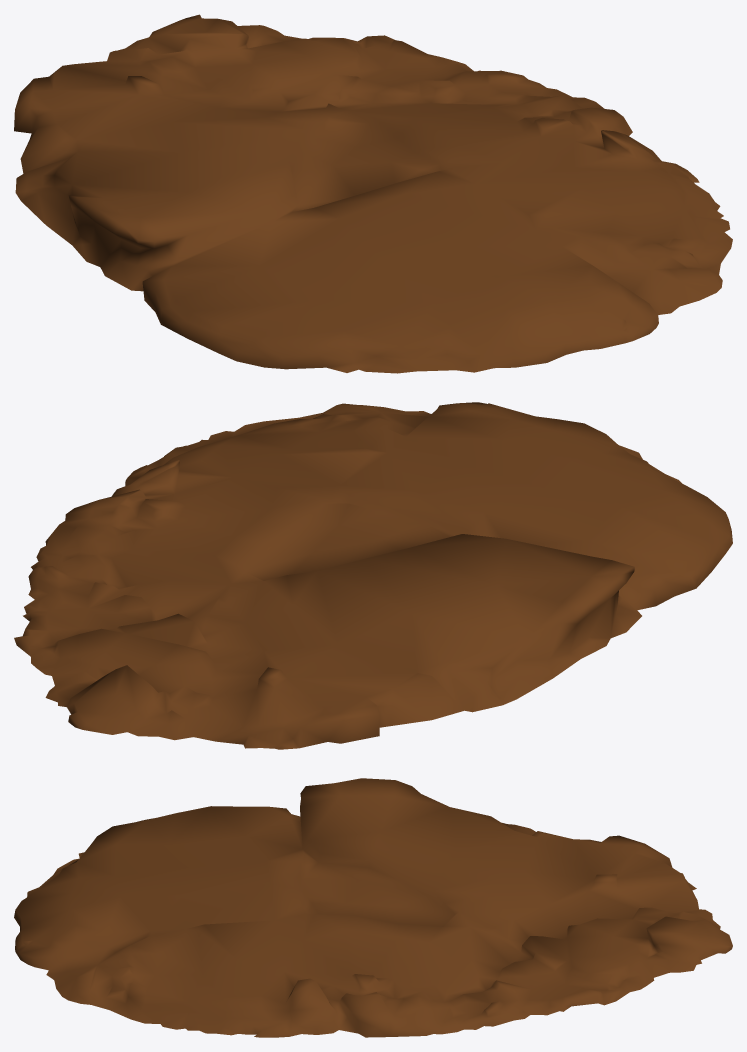
Rendered from MSH_Rocks_Flat_09.FBX.
The picture shows the model from 3 angles, top to bottom: view 1: azimuth 30°, elevation 25°; view 2: azimuth 150°, elevation 25°; view 3: azimuth 270°, elevation 25°; orthographic projection. The views are drawn at different scales.
Parts seen in each view (by area): view 1: MESH_LOD0; view 2: MESH_LOD0; view 3: MESH_LOD0.
Boxes of the visible parts, x1,y1,x2,y2 form: MESH_LOD0: [14, 14, 732, 373]; MESH_LOD0: [14, 402, 732, 749]; MESH_LOD0: [14, 778, 732, 1037].
Size of what is drawn, in the model's own units: 43.89 by 4.19 by 60.58.
